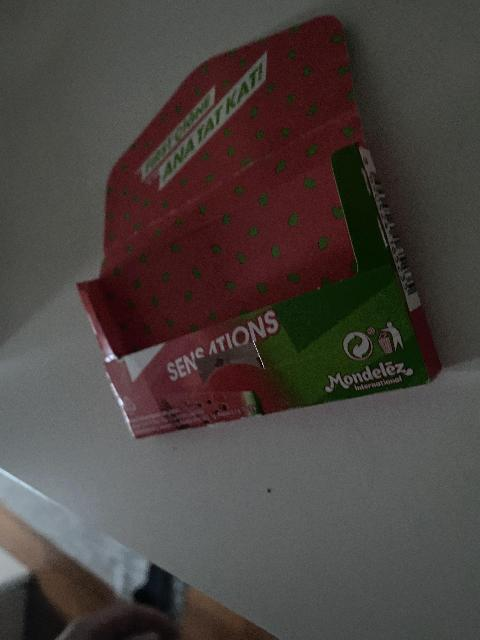Kagit: (73, 2, 443, 459)
